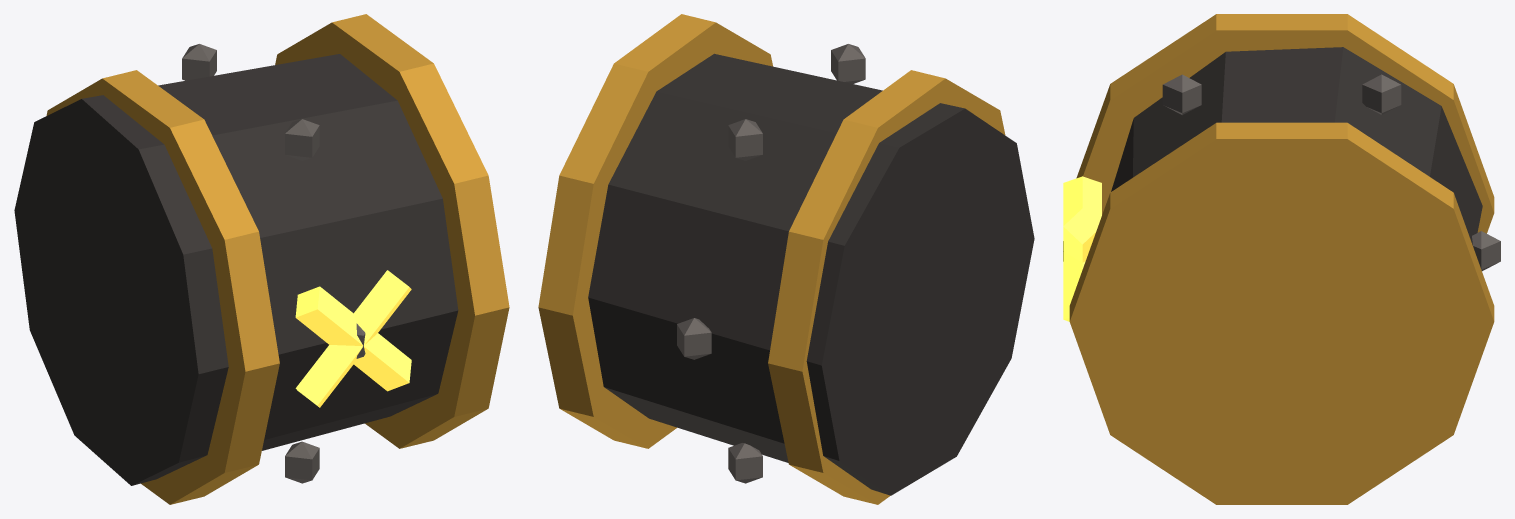
File: ember_thane_bracer_l.glb
3 views of the same model, side by side, from view 1: azimuth 30°, elevation 25°; view 2: azimuth 150°, elevation 25°; view 3: azimuth 270°, elevation 25° (orthographic). The views are drawn at different scales.
Visible parts, largest first — view 1: ember_thane_bracer_l; view 2: ember_thane_bracer_l; view 3: ember_thane_bracer_l.
Part boxes in pixels (x1,y1,x2,y2): ember_thane_bracer_l: (14, 14, 509, 504); ember_thane_bracer_l: (538, 14, 1034, 504); ember_thane_bracer_l: (1063, 14, 1500, 504).
Bounding box in the file's own units: 0.2562 × 0.3138 × 0.3403.
